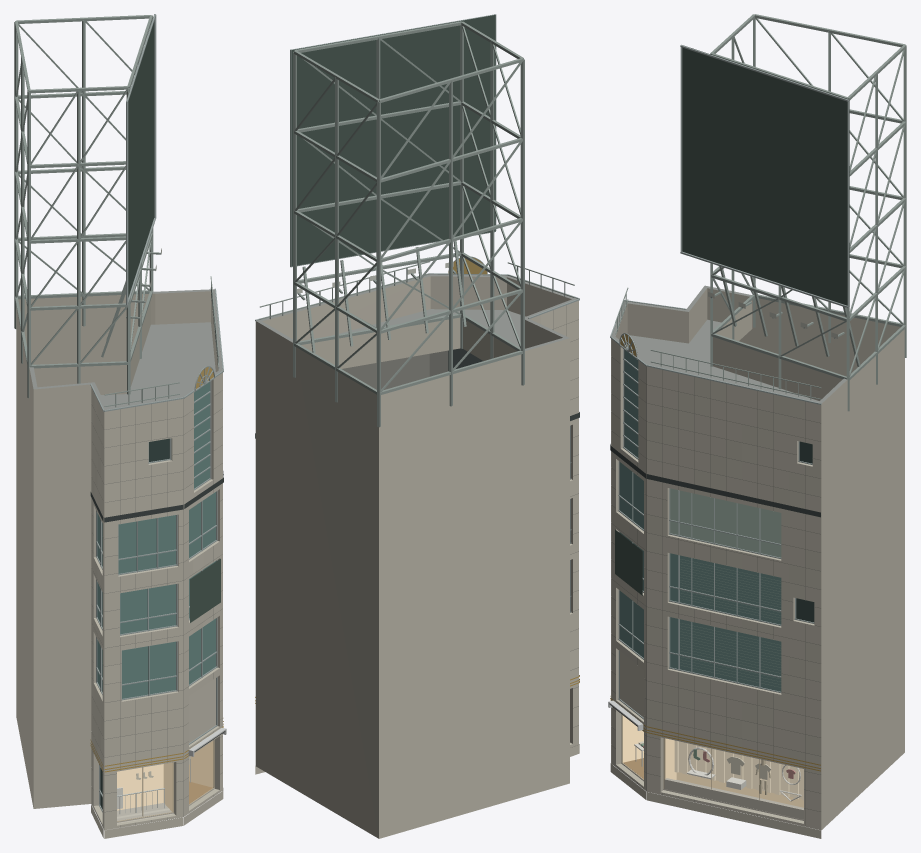
Rendered from center244.glb.
The picture shows the model from 3 angles, left to right: view 1: azimuth 30°, elevation 25°; view 2: azimuth 150°, elevation 25°; view 3: azimuth 270°, elevation 25°; orthographic projection. The views are drawn at different scales.
Visible parts, largest first — view 1: c244_stone_dark, c244_stone, c244_steel, c244_glass, c244_stone_light, c244_screen_back, c244_roof, c244_frame, INFERRED_SHALLOW_TUTUANNA_REMOVABLE__WarmInterior, c244_joint, c244_reveal, INFERRED_SHALLOW_TUTUANNA_REMOVABLE__ThresholdStone (+2 smaller); view 2: c244_stone_dark, c244_screen_back, c244_steel, c244_joint, c244_roof, c244_stone, c244_frame, c244_stone_light; view 3: c244_stone_dark, c244_screen_back, c244_stone, c244_steel, c244_glass, c244_stone_light, c244_blind, c244_frame, c244_joint, c244_roof, INFERRED_SHALLOW_TUTUANNA_REMOVABLE__PaleCurtain, INFERRED_SHALLOW_TUTUANNA_REMOVABLE__WarmInterior (+5 smaller).
Part boxes in pixels (left/top/right/bottom): c244_stone_dark: left=16, top=291, right=223, bottom=838; c244_stone: left=91, top=373, right=222, bottom=830; c244_steel: left=14, top=15, right=219, bottom=407; c244_glass: left=97, top=382, right=215, bottom=698; c244_stone_light: left=91, top=393, right=222, bottom=824; c244_screen_back: left=126, top=14, right=220, bottom=622; c244_roof: left=29, top=289, right=222, bottom=410; c244_frame: left=90, top=14, right=223, bottom=812; INFERRED_SHALLOW_TUTUANNA_REMOVABLE__WarmInterior: left=117, top=741, right=213, bottom=811; c244_joint: left=92, top=391, right=222, bottom=827; c244_reveal: left=90, top=471, right=223, bottom=522; INFERRED_SHALLOW_TUTUANNA_REMOVABLE__ThresholdStone: left=117, top=803, right=172, bottom=823; c244_stone_dark: left=255, top=276, right=579, bottom=838; c244_screen_back: left=290, top=15, right=495, bottom=266; c244_steel: left=259, top=21, right=574, bottom=427; c244_joint: left=255, top=305, right=578, bottom=765; c244_roof: left=256, top=274, right=576, bottom=350; c244_stone: left=552, top=300, right=578, bottom=727; c244_frame: left=255, top=14, right=579, bottom=612; c244_stone_light: left=541, top=310, right=578, bottom=670; c244_stone_dark: left=610, top=288, right=904, bottom=838; c244_screen_back: left=615, top=45, right=849, bottom=595; c244_stone: left=611, top=346, right=821, bottom=830; c244_steel: left=615, top=14, right=906, bottom=411; c244_glass: left=620, top=350, right=781, bottom=691; c244_stone_light: left=611, top=339, right=821, bottom=819; c244_blind: left=670, top=488, right=781, bottom=687; c244_frame: left=610, top=45, right=849, bottom=719; c244_joint: left=611, top=357, right=820, bottom=826; c244_roof: left=611, top=285, right=846, bottom=403; INFERRED_SHALLOW_TUTUANNA_REMOVABLE__PaleCurtain: left=674, top=740, right=803, bottom=800; INFERRED_SHALLOW_TUTUANNA_REMOVABLE__WarmInterior: left=623, top=715, right=803, bottom=807.
Size of the model in its own units: 11.98 by 33.65 by 12.7.
